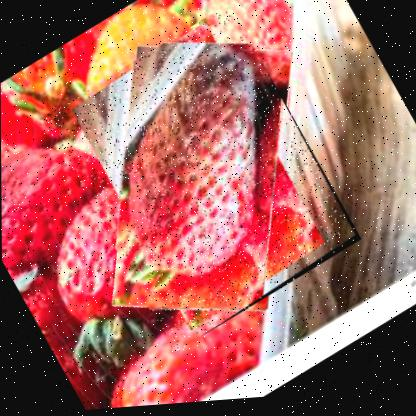strawberry_rotten: (41, 0, 363, 364)
